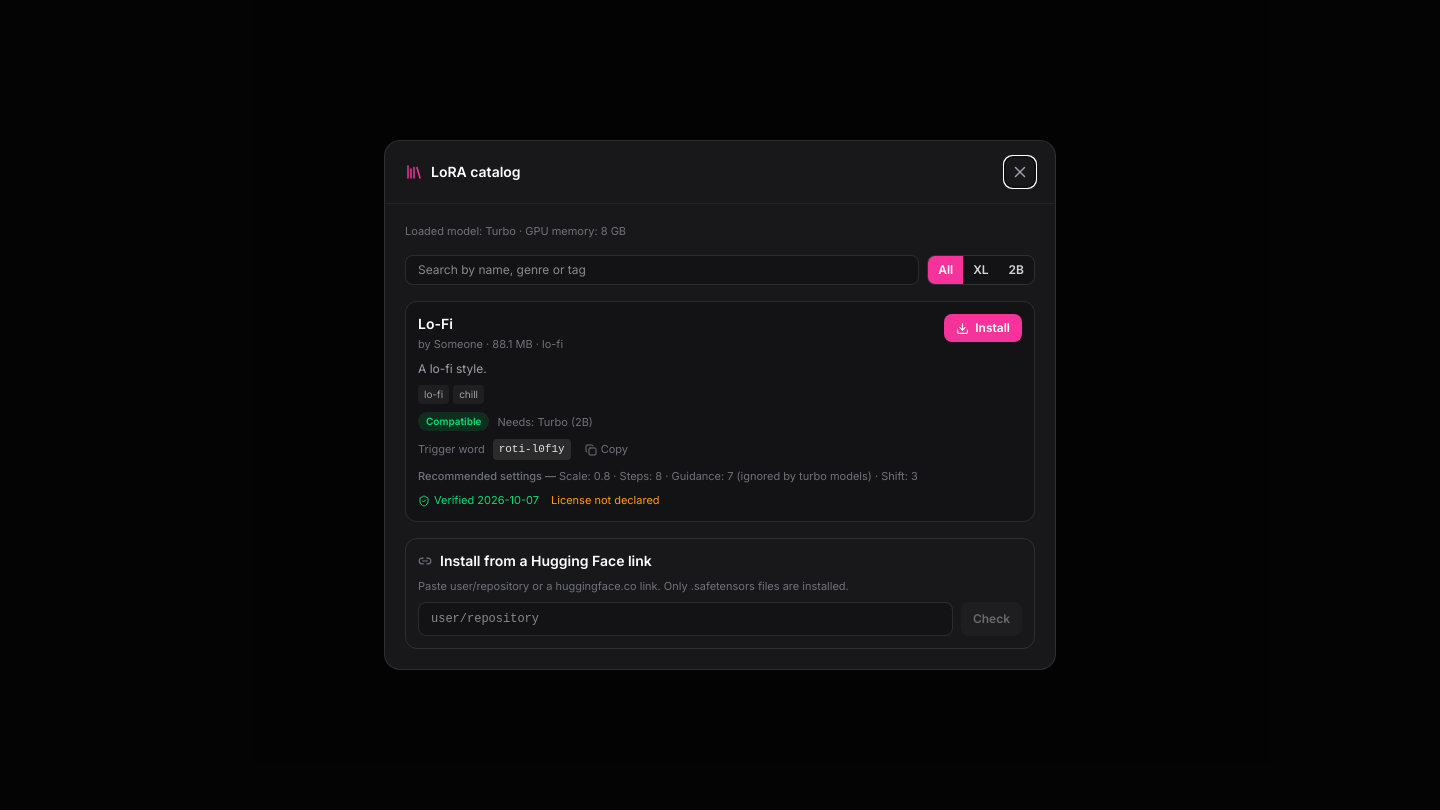
Test: LoraCatalogModal › shows a failure that happens while the install runs
The image size is (1440, 810).
Click the button "Install": point(983, 328) [944,314,1022,342]
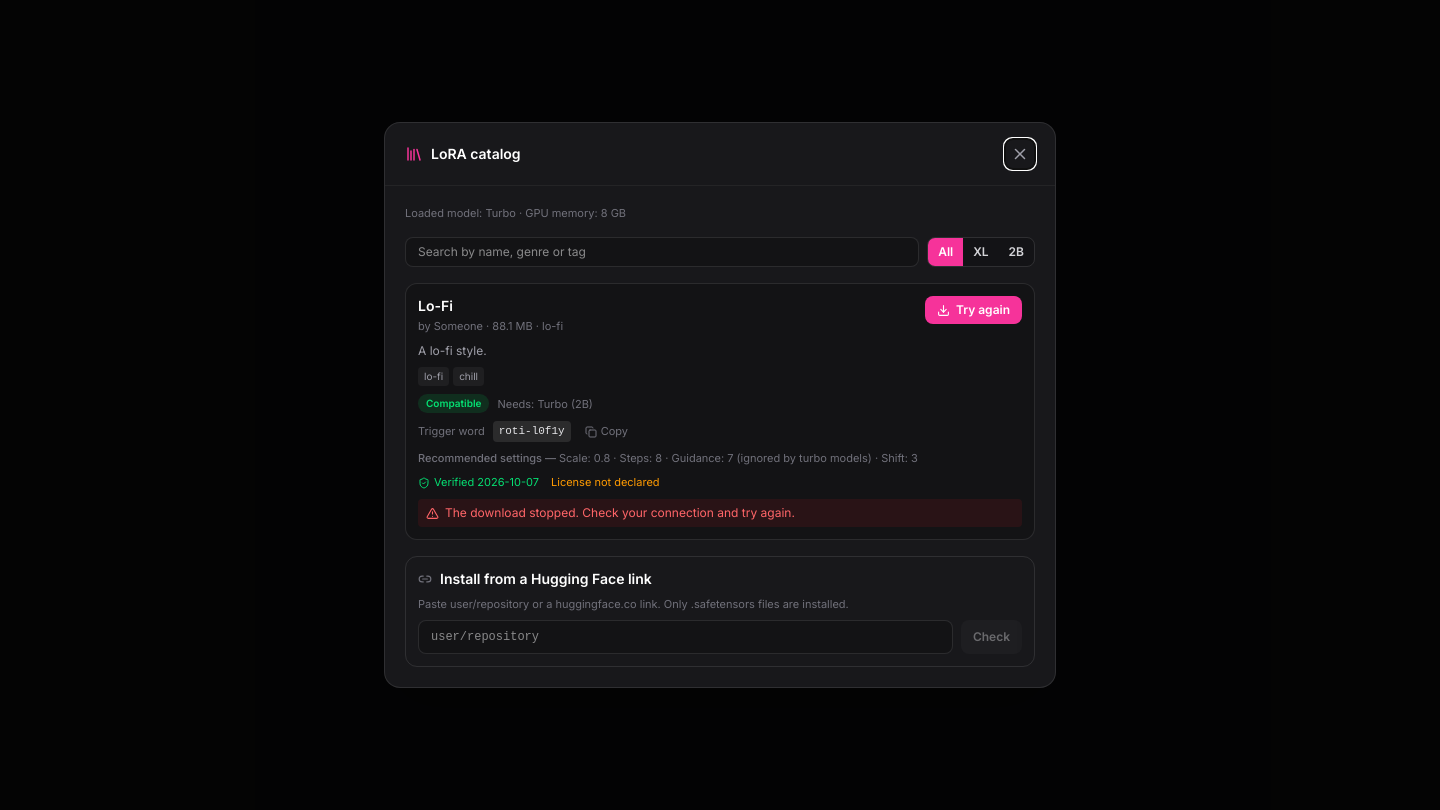
Check: the message "The download stopped. Check your connection and try again." is shown, box [418,499,1022,527]
